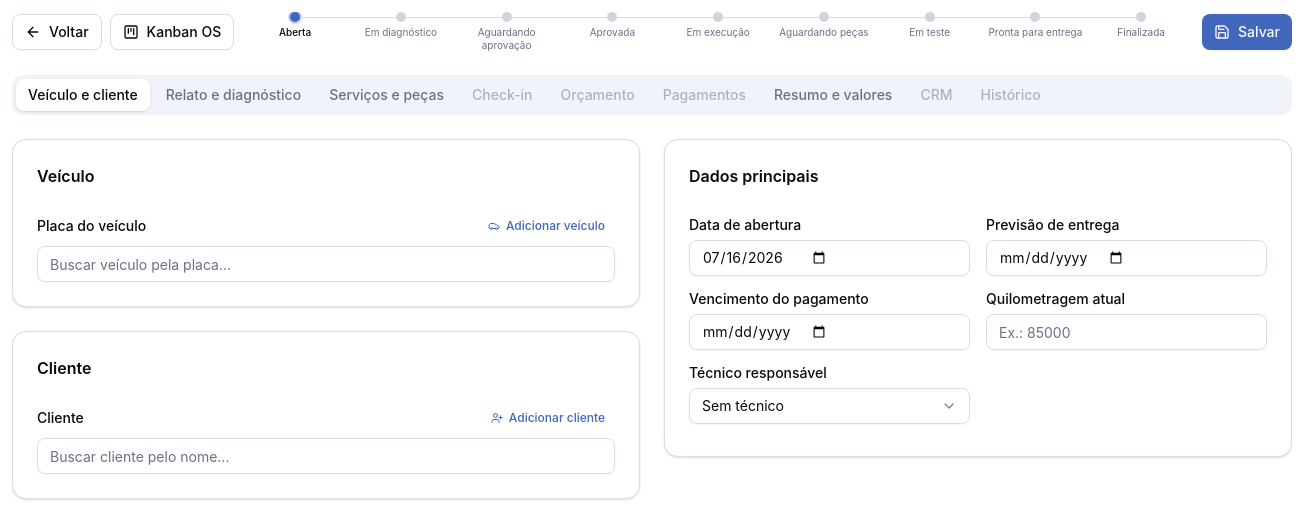
Test case: OrderForm › prefills the expected delivery from the default deadline on a new OS
The width and height of the screenshot is (1304, 517).
Type "2026-08-01" into the date field labelled "Data de abertura" at (830, 258), box [689, 240, 970, 276]
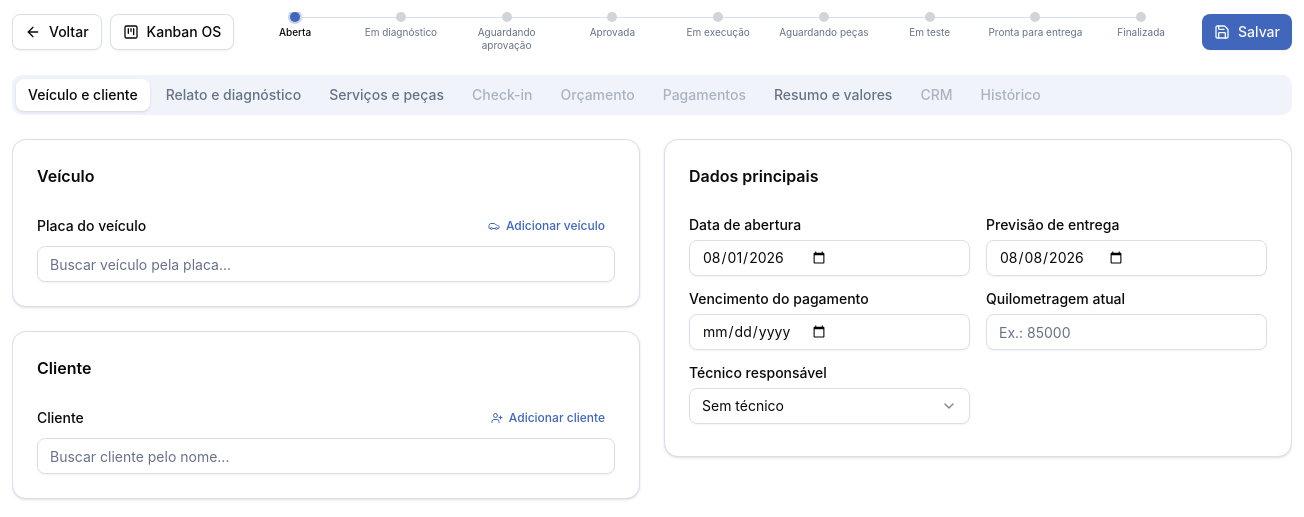
Now the date field labelled "Previsão de entrega" holds "2026-08-08", box [986, 240, 1267, 276]
